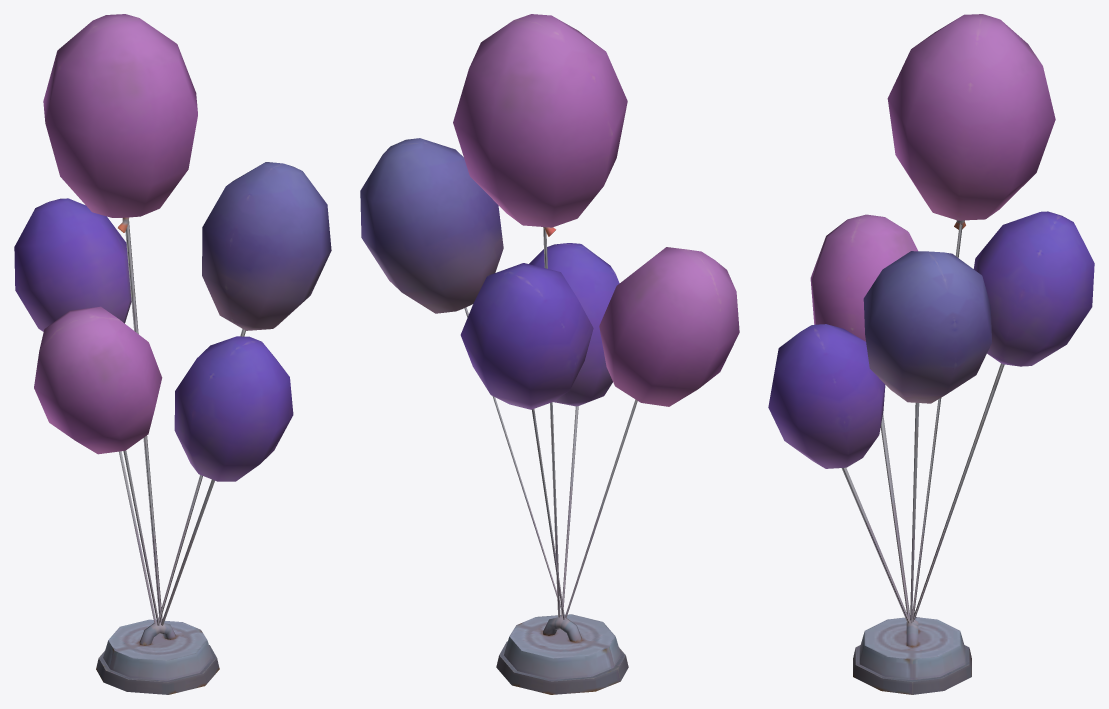
The model's file is pref_sm_city_ballon01_snow_lv3.fbx.
The picture shows the model from 3 angles, left to right: view 1: azimuth 30°, elevation 25°; view 2: azimuth 150°, elevation 25°; view 3: azimuth 270°, elevation 25°; orthographic projection. The views are drawn at different scales.
Parts seen in each view (by area): view 1: pref_sm_city_ballon01_snow_lv3; view 2: pref_sm_city_ballon01_snow_lv3; view 3: pref_sm_city_ballon01_snow_lv3.
Boxes of the visible parts, box(x1,y1,x2,y2) form: pref_sm_city_ballon01_snow_lv3: box(14, 14, 331, 694); pref_sm_city_ballon01_snow_lv3: box(360, 14, 739, 694); pref_sm_city_ballon01_snow_lv3: box(768, 14, 1094, 694).
Bounding box in the file's own units: 0.9039 × 1.78 × 0.8199.
